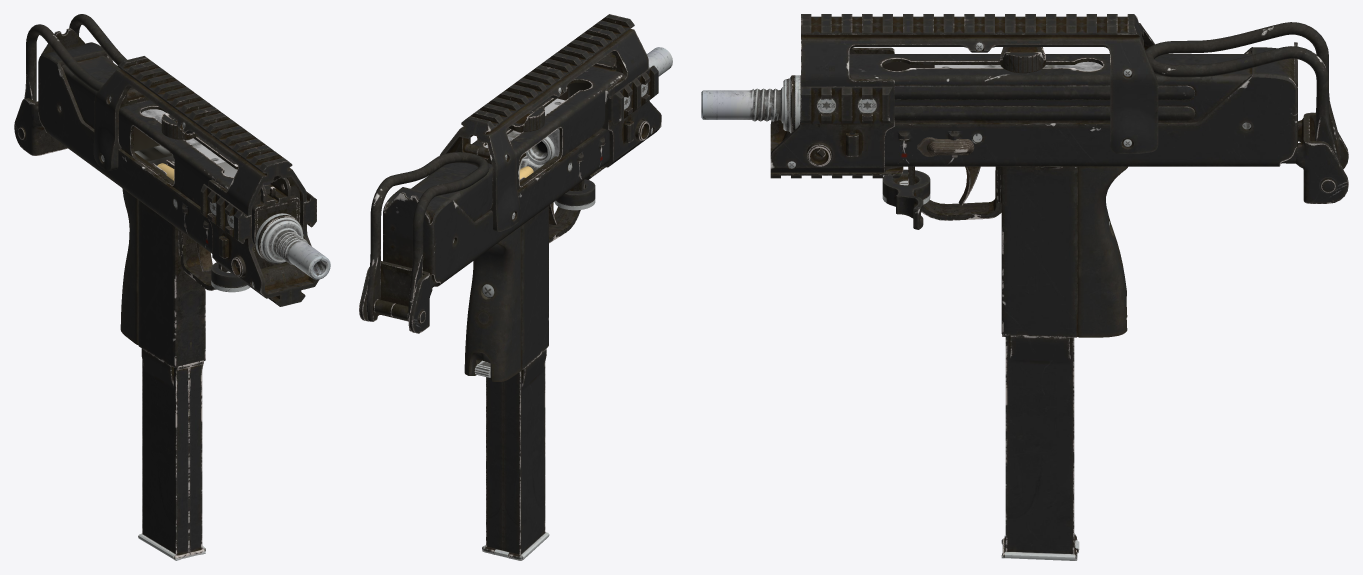
Rendered from mac10.glb.
3 renders of one model, left to right at view 1: azimuth 30°, elevation 25°; view 2: azimuth 150°, elevation 25°; view 3: azimuth 270°, elevation 25°, orthographic. The views are drawn at different scales.
Visible parts, largest first — view 1: Body_1, Body, Magazine, Slide; view 2: Body_1, Body, Magazine, Slide; view 3: Body_1, Body, Magazine, Slide.
Boxes of the visible parts, left/top/right/bottom form: Body_1: left=14, top=14, right=330, bottom=367; Body: left=93, top=56, right=318, bottom=306; Magazine: left=138, top=159, right=205, bottom=560; Slide: left=141, top=109, right=237, bottom=177; Body_1: left=359, top=47, right=672, bottom=381; Body: left=439, top=14, right=661, bottom=231; Magazine: left=482, top=166, right=549, bottom=560; Slide: left=485, top=98, right=565, bottom=156; Body_1: left=701, top=22, right=1348, bottom=337; Body: left=770, top=14, right=1158, bottom=229; Magazine: left=1001, top=334, right=1079, bottom=560; Slide: left=934, top=47, right=1102, bottom=73.
Bounding box in the file's own units: 0.0604 × 0.2708 × 0.2997.
2 materials, 1 textured.
